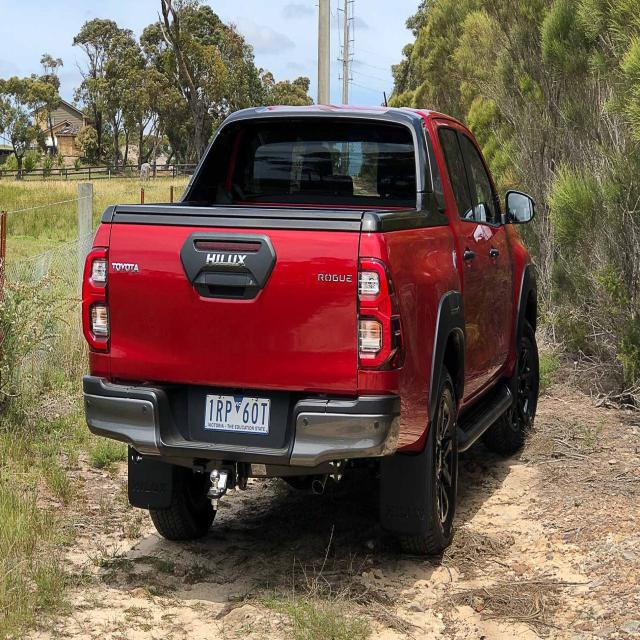light_vehicle: (86, 72, 544, 570)
